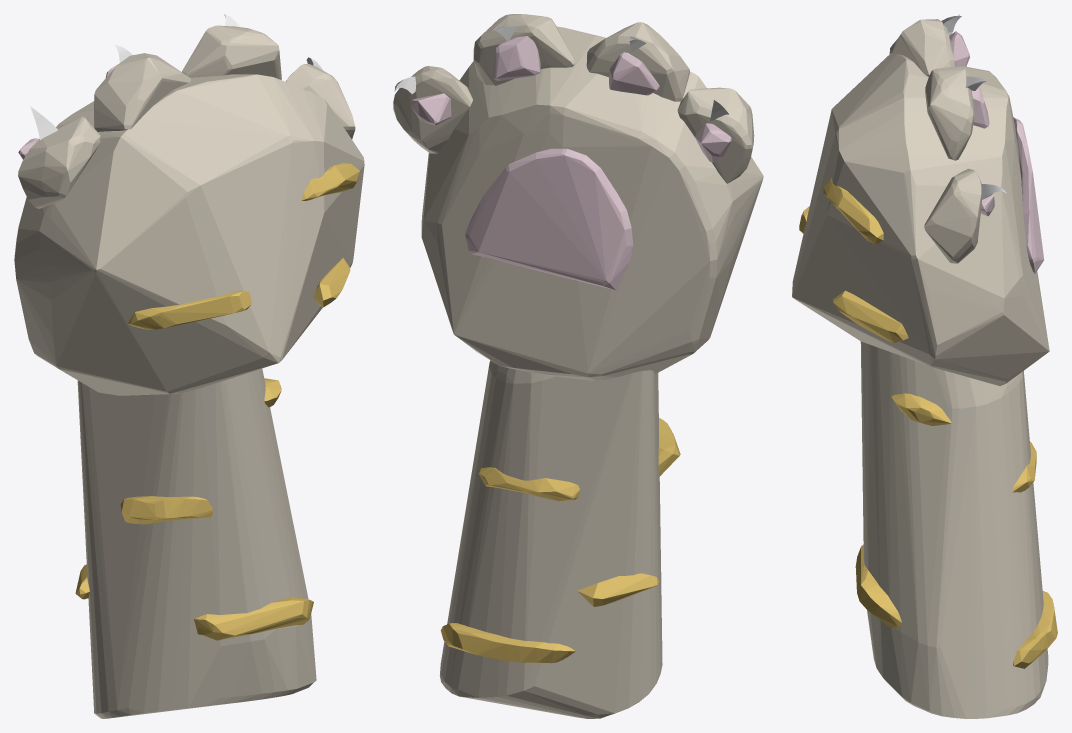
File: white paw.fbx
The picture shows the model from 3 angles, left to right: view 1: azimuth 30°, elevation 25°; view 2: azimuth 150°, elevation 25°; view 3: azimuth 270°, elevation 25°; orthographic projection. The views are drawn at different scales.
Visible parts, largest first — view 1: brush_ShinyHull_g0_b0_0, brush_Spikes_g0_b0_3; view 2: brush_ShinyHull_g0_b0_0, brush_Spikes_g0_b0_3; view 3: brush_ShinyHull_g0_b0_0, brush_Spikes_g0_b0_3.
Boxes of the visible parts, x1=… form: brush_ShinyHull_g0_b0_0: x1=14, y1=25, x2=364, y2=718; brush_Spikes_g0_b0_3: x1=30, y1=14, x2=322, y2=140; brush_ShinyHull_g0_b0_0: x1=393, y1=14, x2=763, y2=718; brush_Spikes_g0_b0_3: x1=394, y1=26, x2=728, y2=121; brush_ShinyHull_g0_b0_0: x1=792, y1=19, x2=1057, y2=718; brush_Spikes_g0_b0_3: x1=941, y1=14, x2=1006, y2=200.
Bounding box in the file's own units: 23.58 × 44.4 × 16.86.
